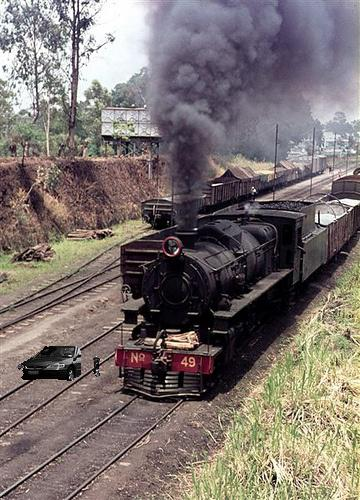tampered: (18, 347, 100, 381)
